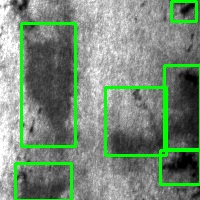inclusion: (160, 150, 200, 184), (171, 1, 196, 21)
patches: (21, 23, 75, 146), (105, 87, 166, 155), (164, 65, 200, 149), (16, 163, 71, 200)
